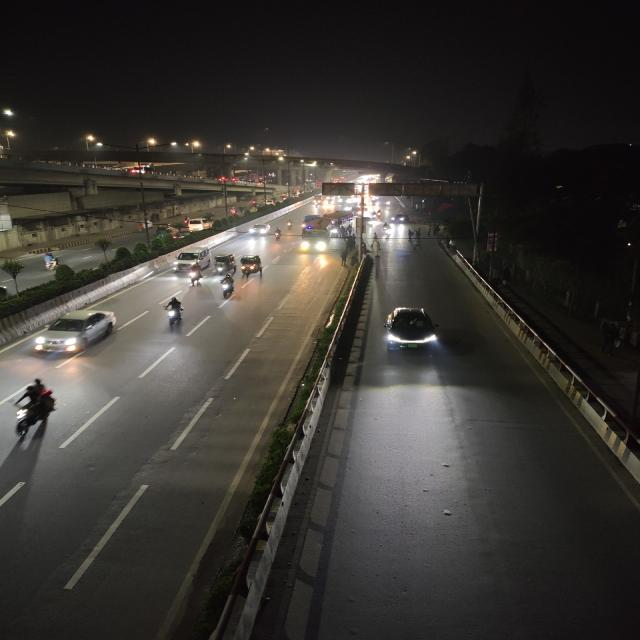bus: (298, 215, 333, 255), (329, 212, 357, 238)
car: (31, 305, 121, 359), (379, 304, 444, 355), (248, 222, 272, 237), (187, 218, 208, 230), (391, 213, 408, 225)
cng: (169, 246, 212, 274), (236, 253, 266, 281), (212, 252, 236, 276), (156, 224, 172, 236)
motorcycle: (10, 375, 61, 440), (158, 294, 189, 334), (218, 274, 237, 300), (39, 252, 62, 271), (272, 227, 284, 241), (284, 218, 294, 230), (372, 210, 383, 220)
pedestrian: (340, 248, 348, 266), (372, 232, 380, 248), (405, 230, 414, 242), (413, 238, 421, 250), (427, 225, 431, 236)
